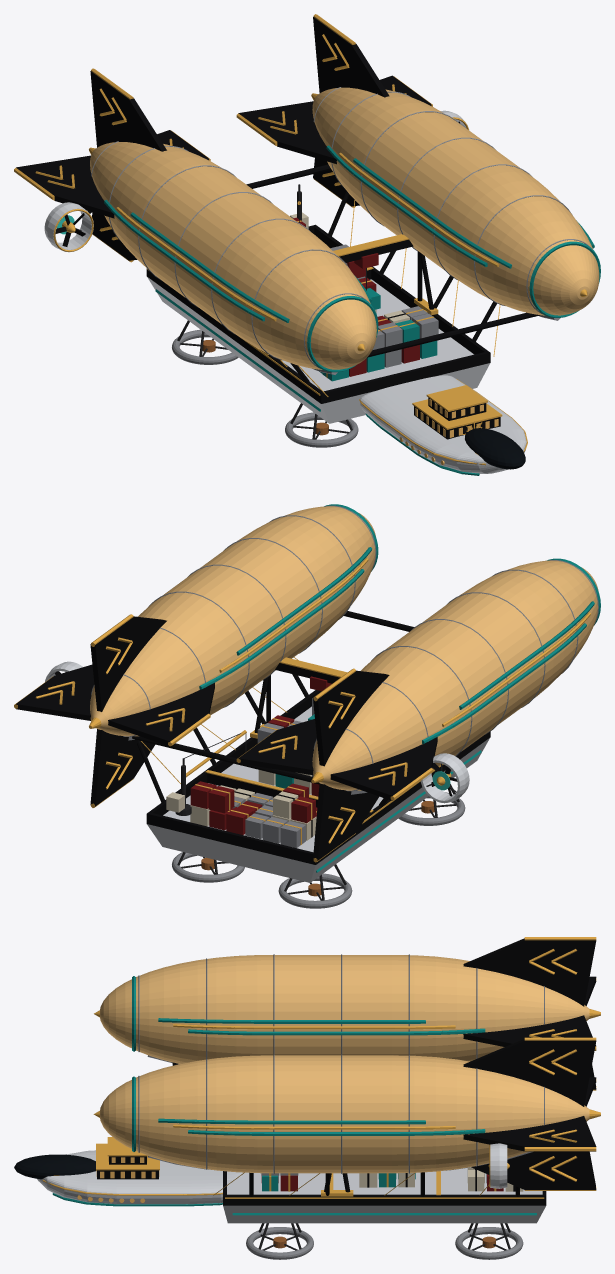
File: cargo_barge.obj
The picture shows the model from 3 angles, top to bottom: view 1: azimuth 30°, elevation 25°; view 2: azimuth 150°, elevation 25°; view 3: azimuth 270°, elevation 25°; orthographic projection. The views are drawn at different scales.
Parts seen in each view (by area): view 1: cargo_barge; view 2: cargo_barge; view 3: cargo_barge.
Boxes of the visible parts, x1,y1,x2,y2 form: cargo_barge: (14, 14, 600, 475); cargo_barge: (14, 504, 600, 908); cargo_barge: (14, 937, 600, 1259).
Size of the model in its own units: 457 by 265 by 600.
1 material, 1 textured.
